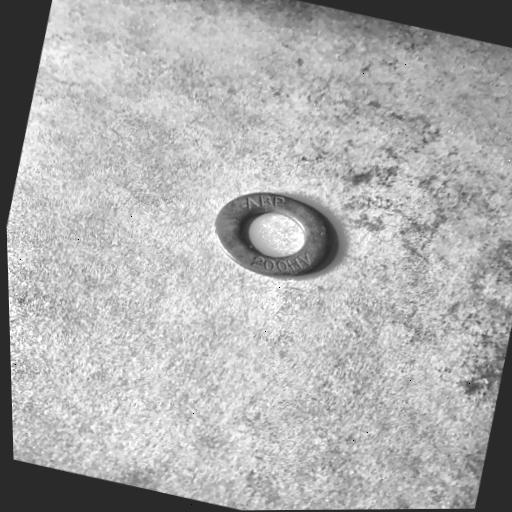Washer: (214, 192, 340, 279)
